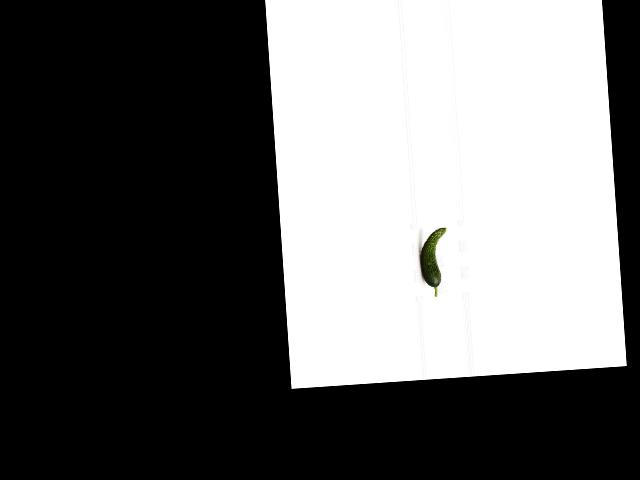cucumber: (418, 227, 450, 297)
